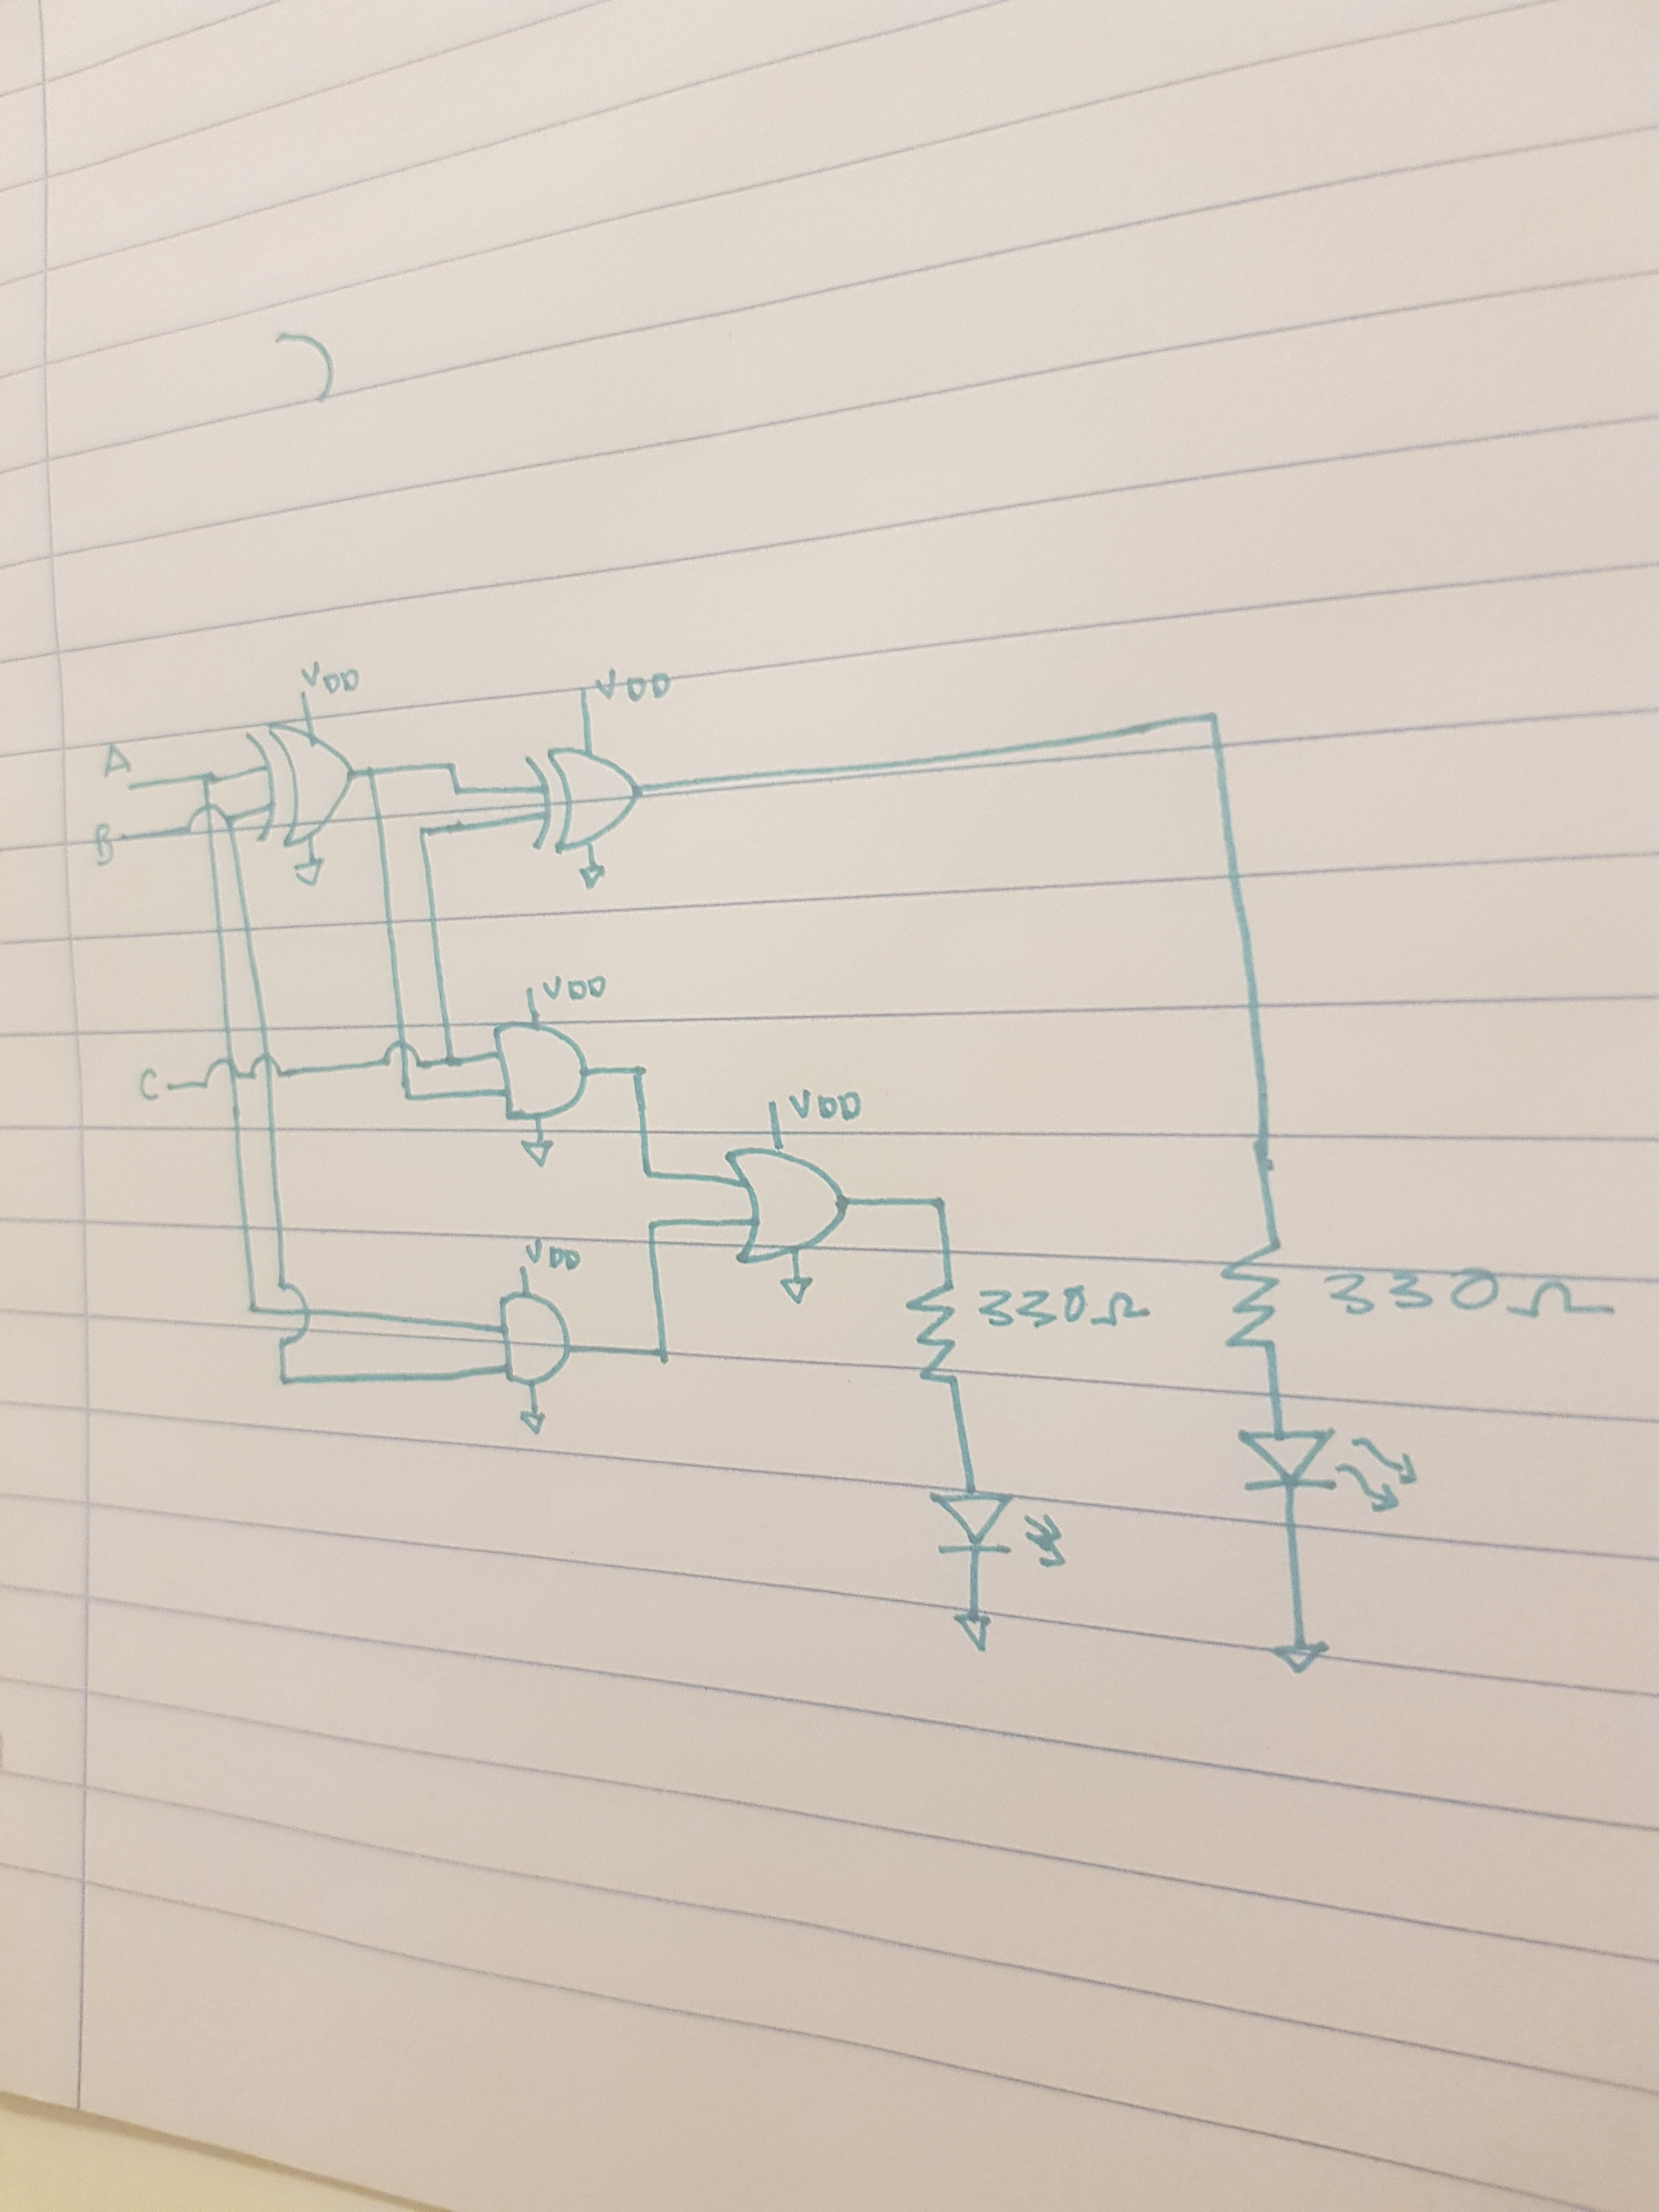and: (488, 1015, 598, 1123), (491, 1284, 579, 1392)
crossover: (275, 1280, 312, 1352), (183, 803, 234, 836), (380, 1038, 425, 1071), (244, 1054, 288, 1085), (204, 1057, 240, 1089)
diode.light_emitting: (1230, 1421, 1422, 1521), (924, 1487, 1072, 1576)
gnd: (1267, 1639, 1335, 1681), (951, 1606, 993, 1656), (779, 1271, 816, 1310), (291, 855, 328, 892), (516, 1406, 552, 1442), (519, 1136, 556, 1172), (575, 859, 610, 895)
junction: (443, 761, 467, 798), (193, 765, 216, 789), (927, 1191, 953, 1211), (439, 1052, 462, 1073), (397, 1087, 420, 1108), (272, 1369, 295, 1390), (652, 1343, 674, 1364), (1202, 707, 1223, 730), (410, 824, 434, 843), (638, 1163, 659, 1184), (645, 1217, 666, 1238), (362, 761, 382, 780), (629, 1062, 648, 1082), (242, 1301, 261, 1320)
or: (720, 1130, 857, 1270)
resistor: (1216, 1231, 1291, 1364), (903, 1275, 971, 1390)
terminal: (117, 777, 148, 801), (115, 829, 143, 852), (162, 1078, 183, 1096)
text: (1316, 1261, 1621, 1320), (972, 1282, 1162, 1331), (591, 664, 674, 705), (298, 651, 368, 695), (786, 1089, 864, 1123), (540, 972, 608, 1003), (525, 1237, 584, 1271), (99, 742, 134, 780), (91, 820, 117, 869), (136, 1066, 162, 1103)
xor: (523, 733, 648, 853), (247, 716, 350, 846)
